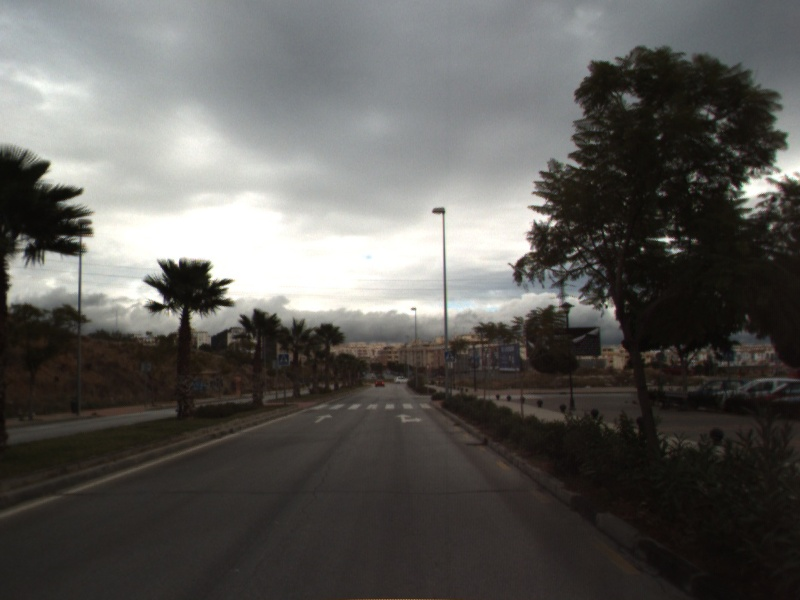STRAIGHT: (312, 412, 335, 425)
STRAIGHT_RIGHT: (394, 411, 425, 425)
